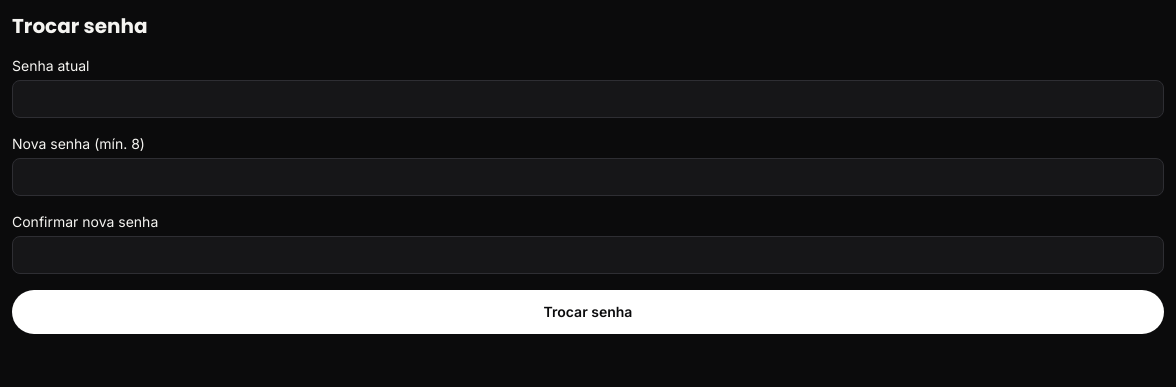
ChangePasswordForm › senha atual errada mostra mensagem específica
In the password field labelled "Senha atual": (588, 99) [12, 80, 1164, 118], type "errada00"
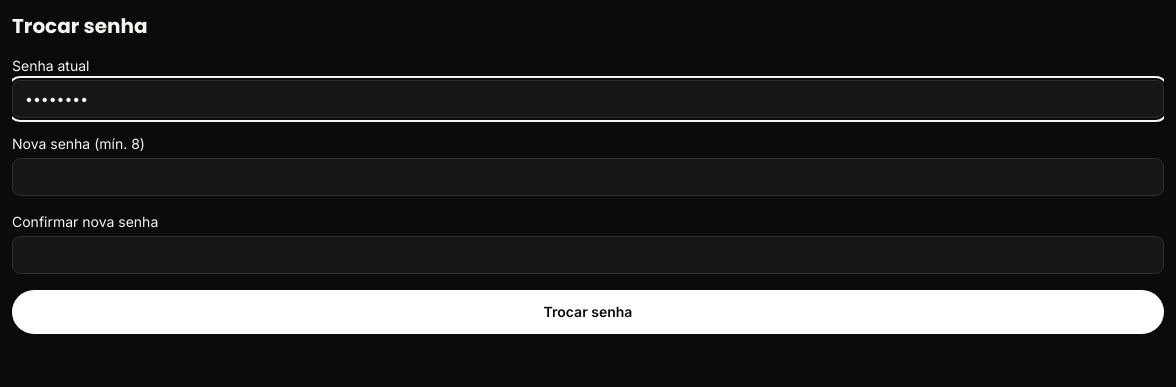
In the password field labelled "Nova senha (mín. 8)": (588, 177) [12, 158, 1164, 196], type "senha12345"
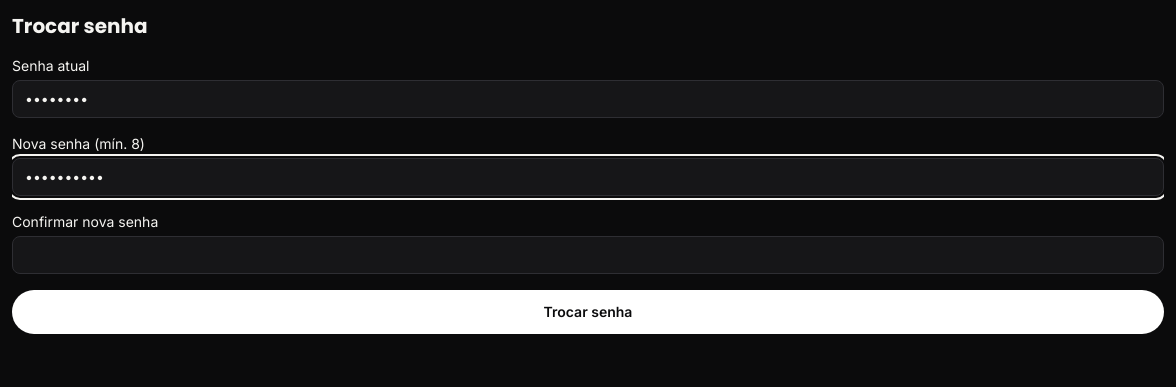
In the password field labelled "Confirmar nova senha": (588, 255) [12, 236, 1164, 274], type "senha12345"
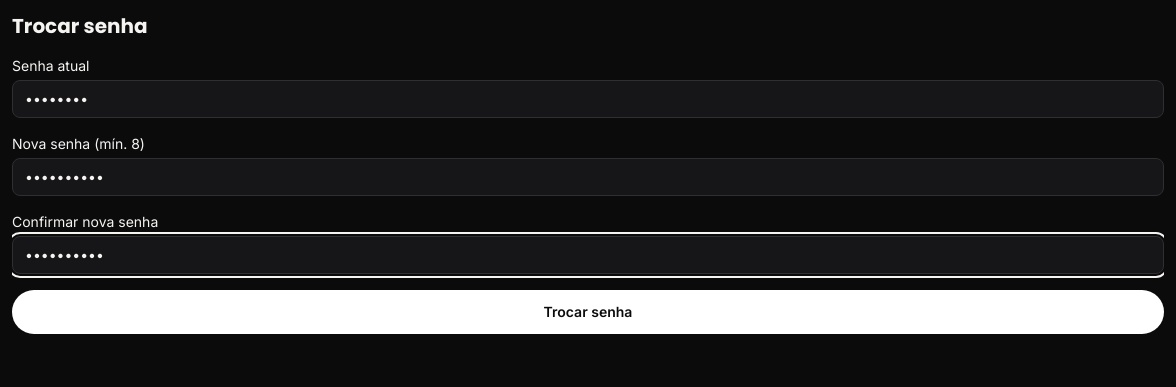
Click the button "Trocar senha": (588, 312) [12, 290, 1164, 334]
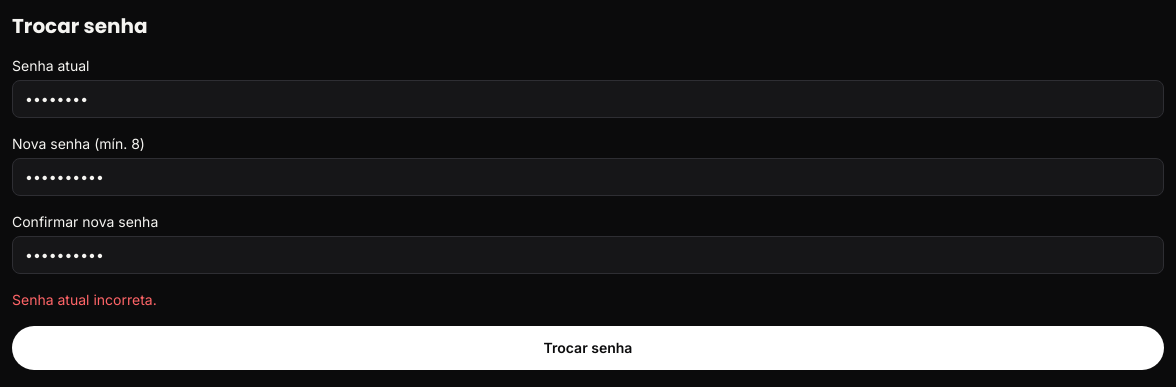
Now the message shows "Senha atual incorreta", box [12, 291, 157, 308]
